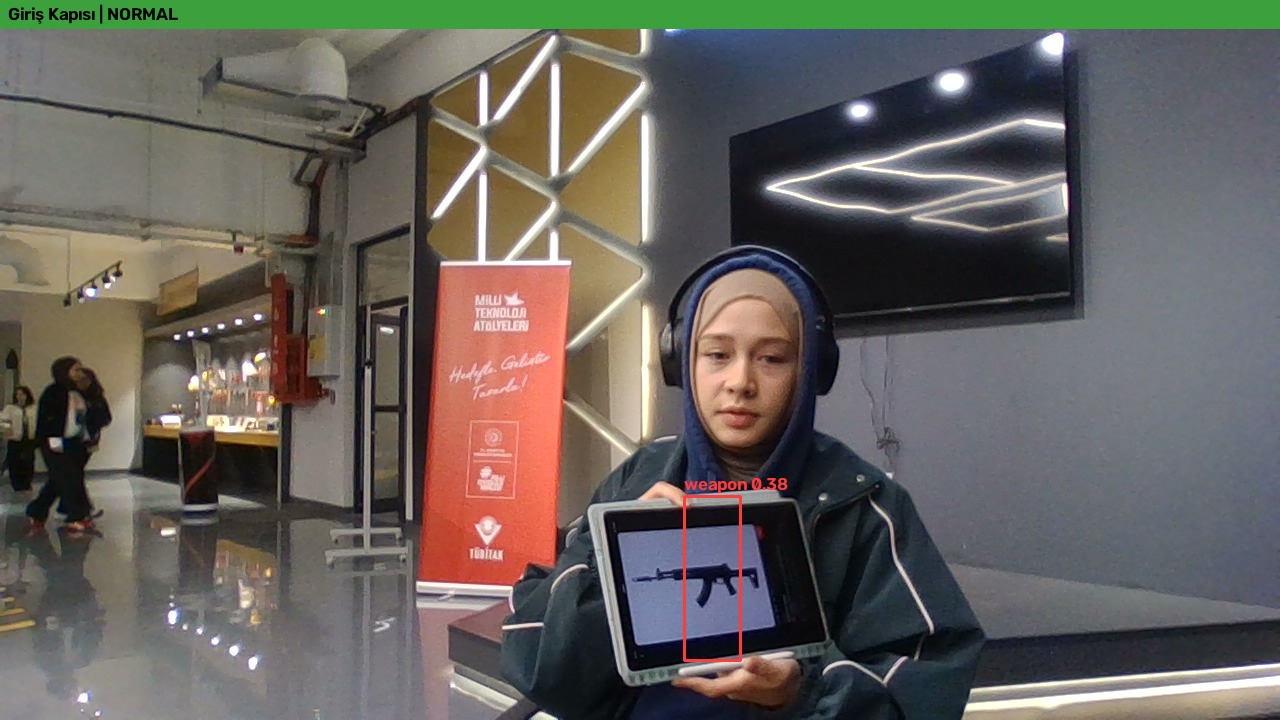weapon: (488, 573, 615, 680)
